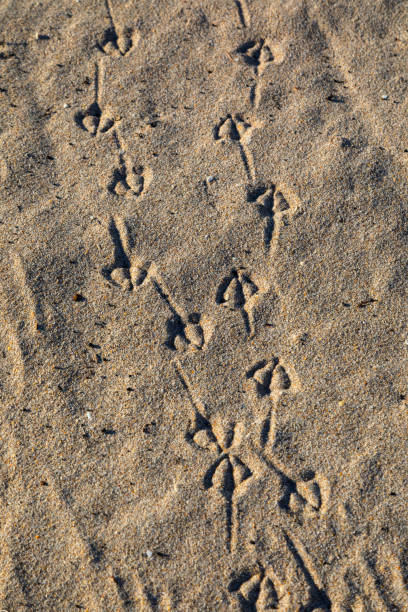animal_foot_print: (102, 217, 212, 350), (175, 361, 252, 550), (246, 357, 328, 522), (228, 527, 331, 611), (328, 534, 407, 611), (152, 272, 212, 350), (102, 217, 149, 290), (235, 38, 282, 108), (213, 114, 257, 183), (228, 562, 287, 611), (215, 269, 258, 336), (75, 62, 114, 135), (107, 130, 150, 196), (247, 185, 289, 249), (97, 0, 134, 56), (246, 357, 291, 396), (236, 38, 273, 75), (234, 0, 250, 27)
